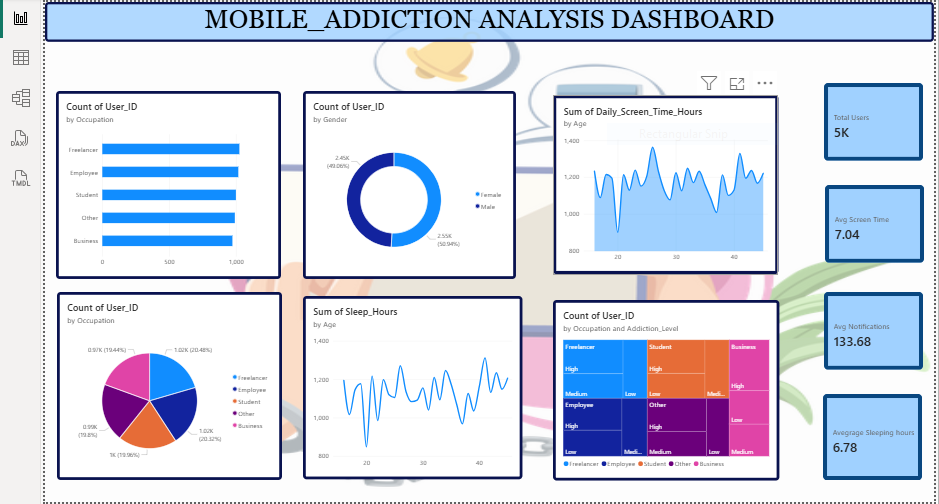

The dashboard page shown, as its layout file describes it:
{"tool":"powerbi","page":{"name":"Page 1","canvas":[1920,1080],"ordinal":0},"visuals":[{"type":"barChart","fields":{"Category":["Mobile_Addiction_Data.Occupation"],"Y":["CountNonNull(Mobile_Addiction_Data.User_ID)"]},"box":[24,192,486,406],"z":0},{"type":"pieChart","fields":{"Category":["Mobile_Addiction_Data.Occupation"],"Y":["CountNonNull(Mobile_Addiction_Data.User_ID)"]},"box":[26,626,486,406],"z":1000},{"type":"donutChart","fields":{"Category":["Mobile_Addiction_Data.Gender"],"Y":["CountNonNull(Mobile_Addiction_Data.User_ID)"]},"box":[558,192,460,406],"z":2000},{"type":"textbox","box":[0,0,1920,86],"z":4000},{"type":"cardVisual","fields":{"Data":["Mobile_Addiction_Data.Total Users"]},"box":[1683.7,175.3,214.3,168.8],"z":6001},{"type":"cardVisual","fields":{"Data":["Mobile_Addiction_Data.Avg Screen Time"]},"box":[1685.9,396,214.3,168.8],"z":6002},{"type":"cardVisual","fields":{"Data":["Mobile_Addiction_Data.Avegrage Sleeping hours"]},"box":[1681.5,846.2,214.3,186.1],"z":6003},{"type":"cardVisual","fields":{"Data":["Mobile_Addiction_Data.Avg Notifications"]},"box":[1683.7,625.4,214.3,168.8],"z":6004},{"type":"lineChart","fields":{"Category":["Mobile_Addiction_Data.Age"],"Y":["Sum(Mobile_Addiction_Data.Sleep_Hours)"]},"box":[558,636,474,396],"z":6005},{"type":"treemap","fields":{"Details":["Mobile_Addiction_Data.Addiction_Level"],"Group":["Mobile_Addiction_Data.Occupation"],"Values":["CountNonNull(Mobile_Addiction_Data.User_ID)"]},"box":[1097.2,642.8,489.1,389.5],"z":6006},{"type":"stackedAreaChart","fields":{"Category":["Mobile_Addiction_Data.Age"],"Y":["Sum(Mobile_Addiction_Data.Daily_Screen_Time_Hours)"]},"box":[1097.2,201.3,486.9,387.4],"z":6007}]}

Visuals, with their boxes in screenshot pixels (x1, y1, x2, y2):
barChart - Mobile_Addiction_Data.Occupation x CountNonNull(Mobile_Addiction_Data.User_ID): {"x1": 55, "y1": 88, "x2": 279, "y2": 275}
pieChart - Mobile_Addiction_Data.Occupation x CountNonNull(Mobile_Addiction_Data.User_ID): {"x1": 56, "y1": 288, "x2": 280, "y2": 475}
donutChart - Mobile_Addiction_Data.Gender x CountNonNull(Mobile_Addiction_Data.User_ID): {"x1": 301, "y1": 88, "x2": 512, "y2": 275}
textbox: {"x1": 44, "y1": 0, "x2": 927, "y2": 40}
cardVisual - Mobile_Addiction_Data.Total Users: {"x1": 818, "y1": 81, "x2": 917, "y2": 158}
cardVisual - Mobile_Addiction_Data.Avg Screen Time: {"x1": 819, "y1": 182, "x2": 918, "y2": 260}
cardVisual - Mobile_Addiction_Data.Avegrage Sleeping hours: {"x1": 817, "y1": 389, "x2": 916, "y2": 475}
cardVisual - Mobile_Addiction_Data.Avg Notifications: {"x1": 818, "y1": 288, "x2": 917, "y2": 365}
lineChart - Mobile_Addiction_Data.Age x Sum(Mobile_Addiction_Data.Sleep_Hours): {"x1": 301, "y1": 293, "x2": 519, "y2": 475}
treemap - Mobile_Addiction_Data.Addiction_Level x Mobile_Addiction_Data.Occupation: {"x1": 549, "y1": 296, "x2": 774, "y2": 475}
stackedAreaChart - Mobile_Addiction_Data.Age x Sum(Mobile_Addiction_Data.Daily_Screen_Time_Hours): {"x1": 549, "y1": 93, "x2": 773, "y2": 271}
